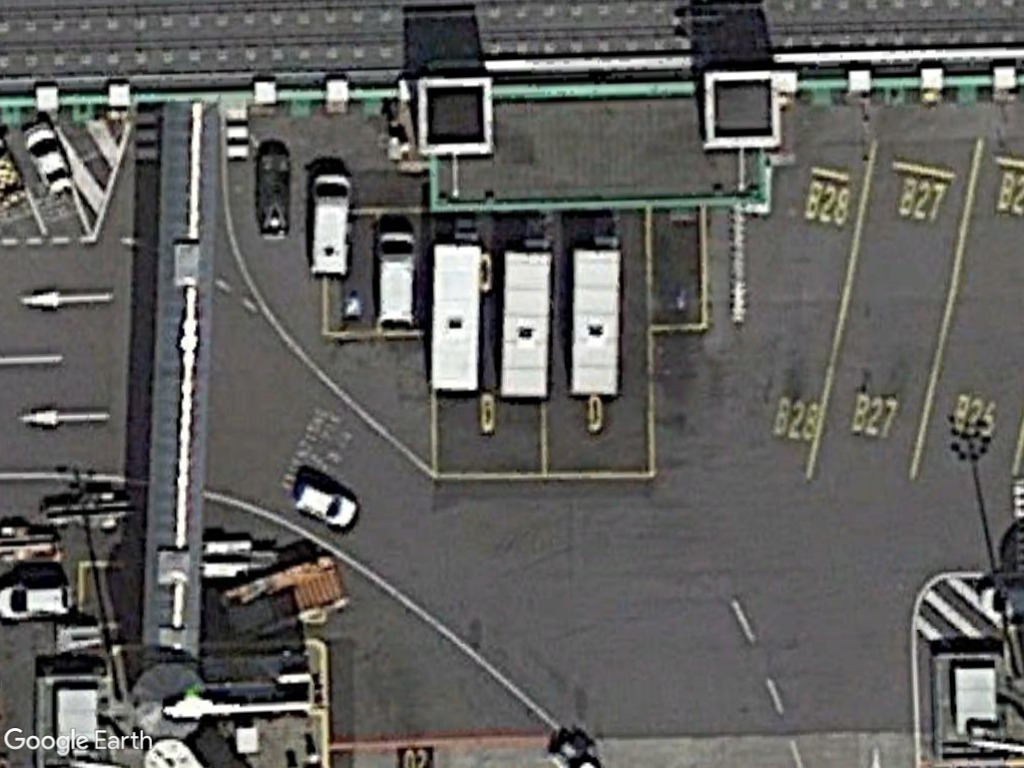bus: (567, 241, 627, 401), (427, 234, 484, 399), (500, 243, 555, 403)
car: (22, 117, 79, 198), (0, 573, 78, 624), (292, 477, 362, 533)
van: (308, 170, 355, 281), (373, 223, 420, 331)
